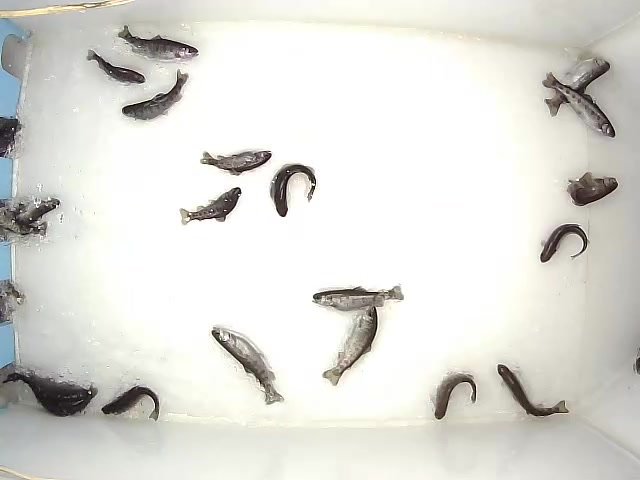fish: (210, 325, 285, 406), (542, 71, 616, 139), (322, 305, 378, 387), (496, 363, 572, 419), (544, 57, 611, 117), (121, 69, 189, 123), (116, 24, 200, 63), (311, 282, 405, 312), (178, 186, 243, 226), (270, 163, 317, 217), (430, 371, 477, 421), (86, 48, 146, 87), (539, 222, 591, 263), (101, 386, 160, 422), (199, 149, 273, 177), (565, 171, 619, 206)
